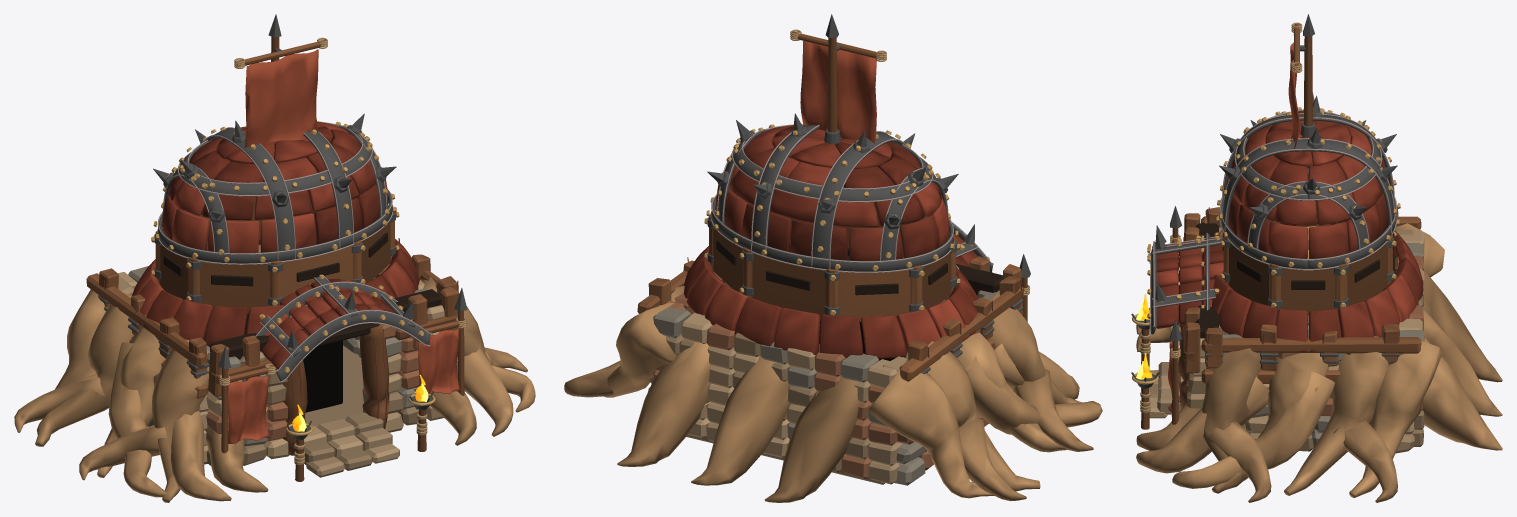
File: source.glb
3 views of the same model, side by side, from view 1: azimuth 30°, elevation 25°; view 2: azimuth 150°, elevation 25°; view 3: azimuth 270°, elevation 25° (orthographic). The views are drawn at different scales.
Visible parts, largest first — view 1: Rootbound Hall · evaluated preview mesh; view 2: Rootbound Hall · evaluated preview mesh; view 3: Rootbound Hall · evaluated preview mesh.
Boxes of the visible parts, box(x1,y1,x2,y2) form: Rootbound Hall · evaluated preview mesh: box(14, 14, 535, 502); Rootbound Hall · evaluated preview mesh: box(564, 14, 1102, 502); Rootbound Hall · evaluated preview mesh: box(1131, 14, 1502, 502).
Size of the model in its own units: 8.74 by 7.37 by 6.43.
